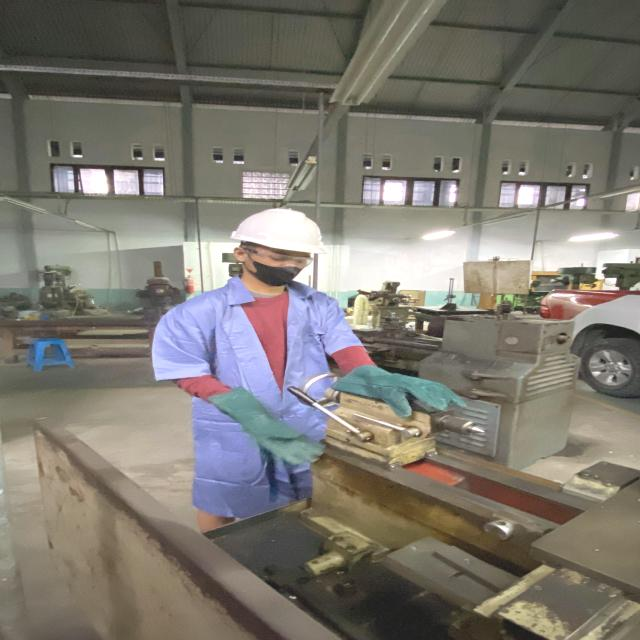face_mask: (247, 251, 318, 286)
glasses: (246, 250, 316, 267)
hand_glove: (238, 421, 331, 467), (382, 374, 474, 418)
head_helmet: (227, 206, 328, 255)
person: (150, 204, 454, 539)
